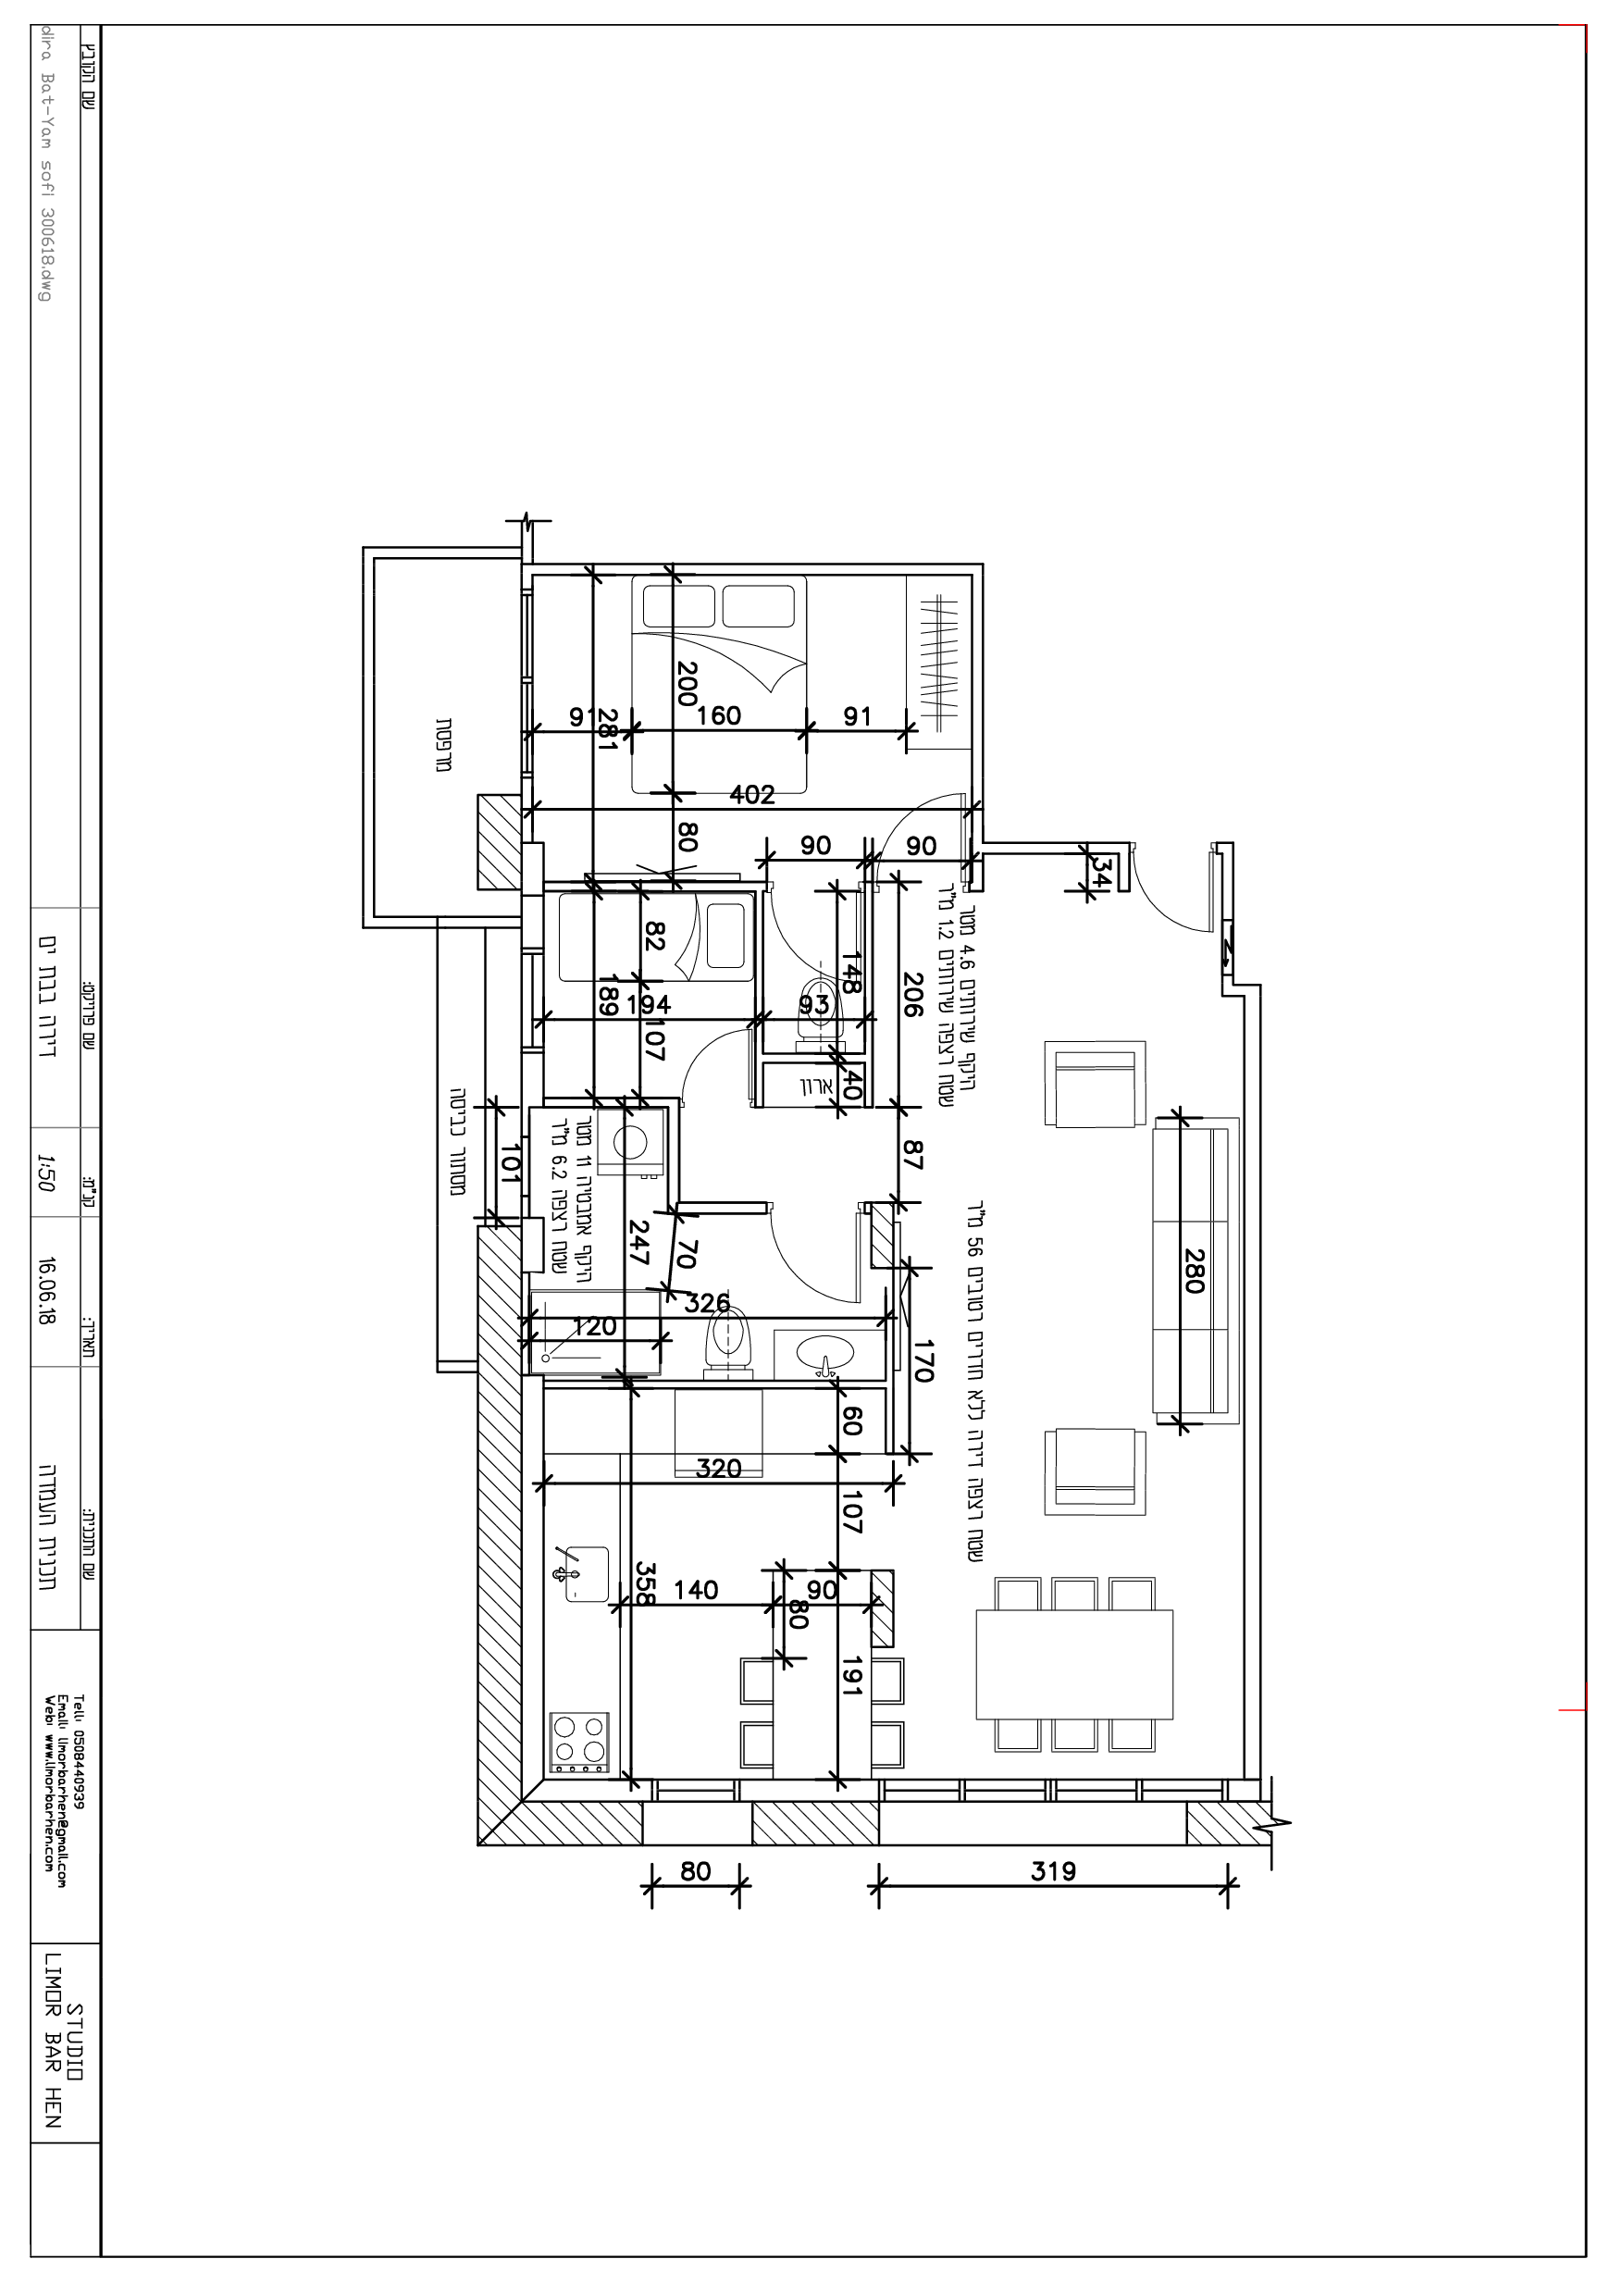door: (766, 1210, 866, 1302), (1131, 859, 1223, 940), (680, 1028, 757, 1096)
wall: (478, 1224, 522, 1848), (754, 1804, 875, 1850), (532, 1806, 641, 1845), (478, 792, 516, 892)
